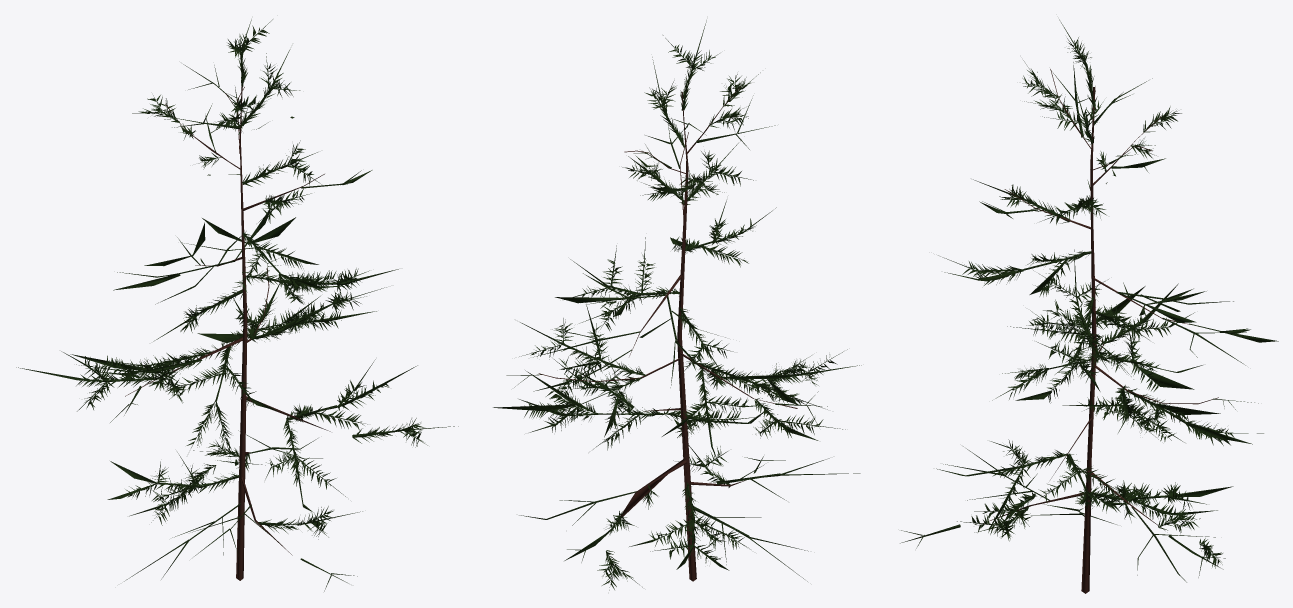
File: sapling_a_lod1.obj
3 views of the same model, side by side, from view 1: azimuth 30°, elevation 25°; view 2: azimuth 150°, elevation 25°; view 3: azimuth 270°, elevation 25° (orthographic). The views are drawn at different scales.
Visible parts, largest first — view 1: sapling_a_lod1; view 2: sapling_a_lod1; view 3: sapling_a_lod1.
Boxes of the visible parts, box(x1,y1,x2,y2) form: sapling_a_lod1: box(16, 19, 458, 591); sapling_a_lod1: box(493, 20, 861, 590); sapling_a_lod1: box(900, 19, 1278, 593).
Bounding box in the file's own units: 32.36 × 49.9 × 29.98.
